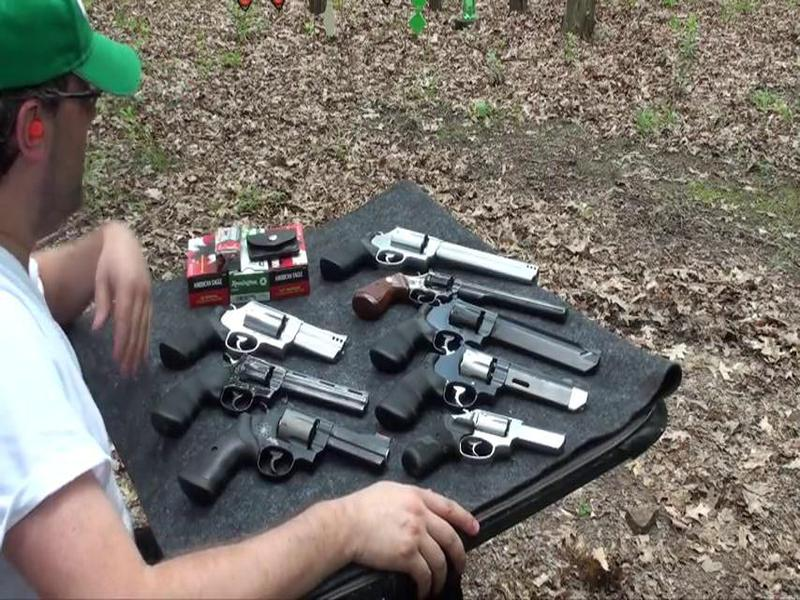Revolver: (151, 338, 369, 438)
